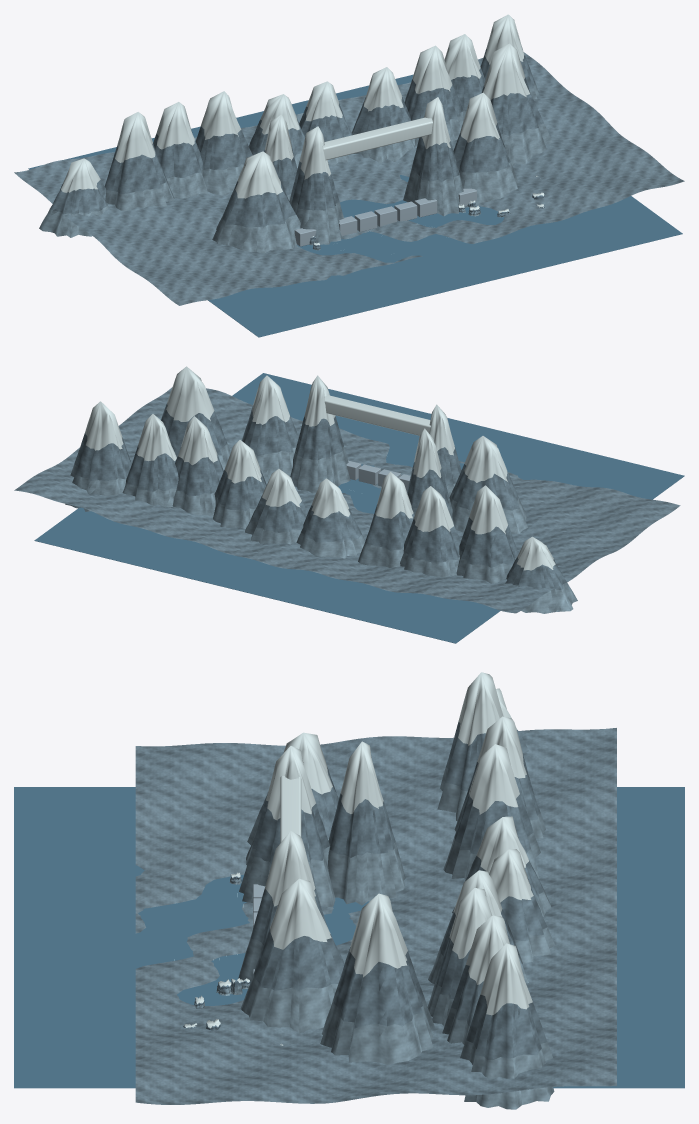
The model's file is frost-02-v1.glb.
The picture shows the model from 3 angles, top to bottom: view 1: azimuth 30°, elevation 25°; view 2: azimuth 150°, elevation 25°; view 3: azimuth 270°, elevation 25°; orthographic projection. The views are drawn at different scales.
Parts seen in each view (by area): view 1: frost strata 1, Glacial lake, Surface mantle.004, frost strata 0, Concrete and brushed alloy.004; view 2: frost strata 1, Glacial lake, Surface mantle.004, frost strata 0, Concrete and brushed alloy.004; view 3: frost strata 1, Glacial lake, Surface mantle.004, frost strata 0.
Part boxes in pixels (x1,y1,x2,y2): frost strata 1: (14, 46, 684, 305); Glacial lake: (28, 74, 682, 337); Surface mantle.004: (61, 14, 544, 245); frost strata 0: (39, 82, 552, 253); Concrete and brushed alloy.004: (294, 188, 476, 246); frost strata 1: (14, 387, 680, 613); Glacial lake: (34, 373, 684, 643); Surface mantle.004: (85, 366, 555, 570); frost strata 0: (65, 435, 577, 613); Concrete and brushed alloy.004: (346, 460, 410, 491); frost strata 1: (135, 722, 616, 1104); Glacial lake: (14, 787, 684, 1088); Surface mantle.004: (184, 672, 533, 1045); frost strata 0: (194, 767, 555, 1109).
Bounding box in the file's own units: 208 × 43.35 × 160.
Materials: 7 (3 with a texture image).
